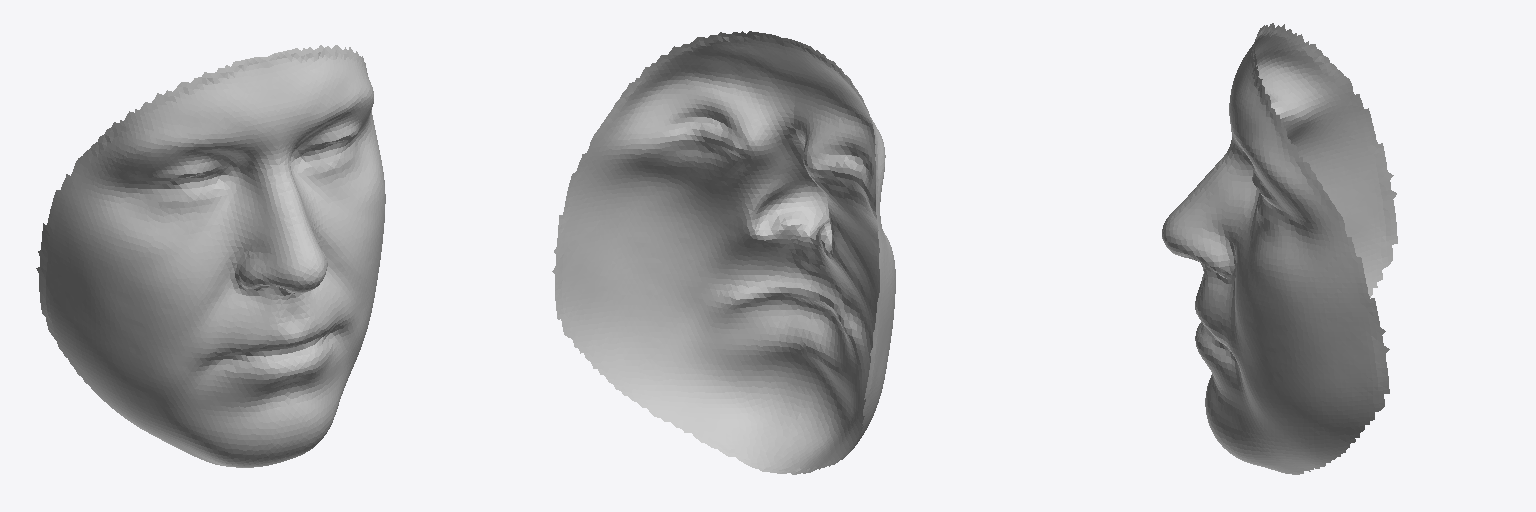
File: SIMPOP_41.obj
The picture shows the model from 3 angles: view 1: azimuth 30°, elevation 25°; view 2: azimuth 150°, elevation 25°; view 3: azimuth 270°, elevation 25°; orthographic projection.
Visible parts, largest first — view 1: SIMPOP_41; view 2: SIMPOP_41; view 3: SIMPOP_41.
Boxes of the visible parts, x1=… form: SIMPOP_41: x1=36, y1=45, x2=385, y2=467; SIMPOP_41: x1=552, y1=31, x2=895, y2=474; SIMPOP_41: x1=1162, y1=23, x2=1397, y2=474.
Size of the model in its own units: 154 by 193 by 97.76.